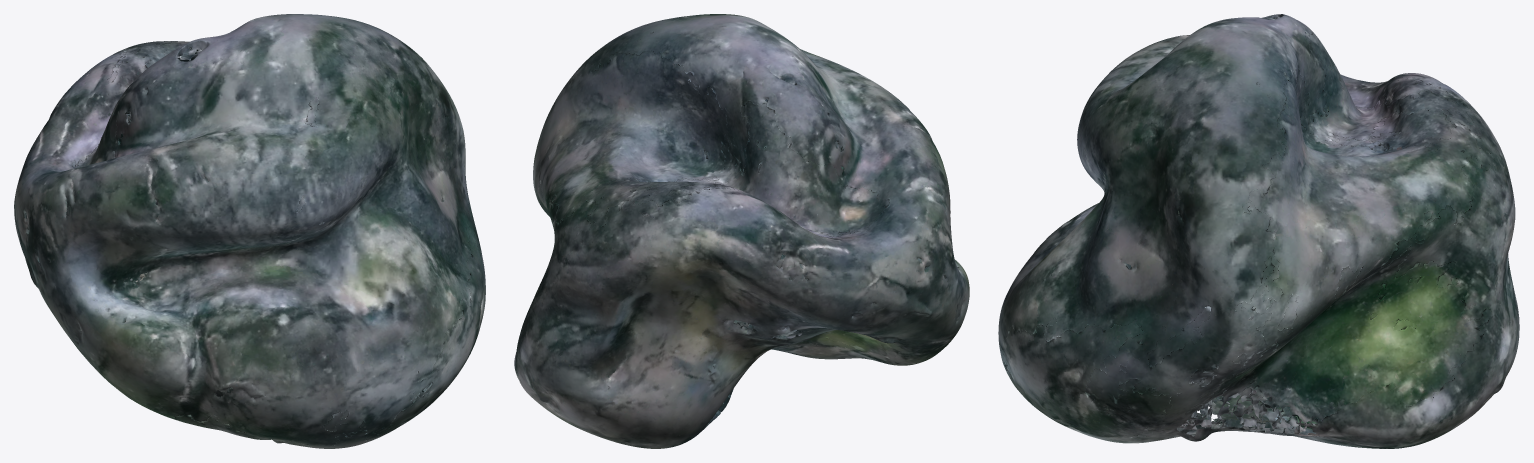
The model's file is melted_bottle.glb.
3 views of the same model, side by side, from view 1: azimuth 30°, elevation 25°; view 2: azimuth 150°, elevation 25°; view 3: azimuth 270°, elevation 25° (orthographic). The views are drawn at different scales.
Visible parts, largest first — view 1: world; view 2: world; view 3: world.
Part boxes in pixels (bbox=[...]): world: bbox=[14, 14, 485, 448]; world: bbox=[514, 14, 969, 448]; world: bbox=[998, 14, 1519, 448].
Bounding box in the file's own units: 0.9761 × 0.8388 × 0.9994.
Materials: 1 (1 with a texture image).
